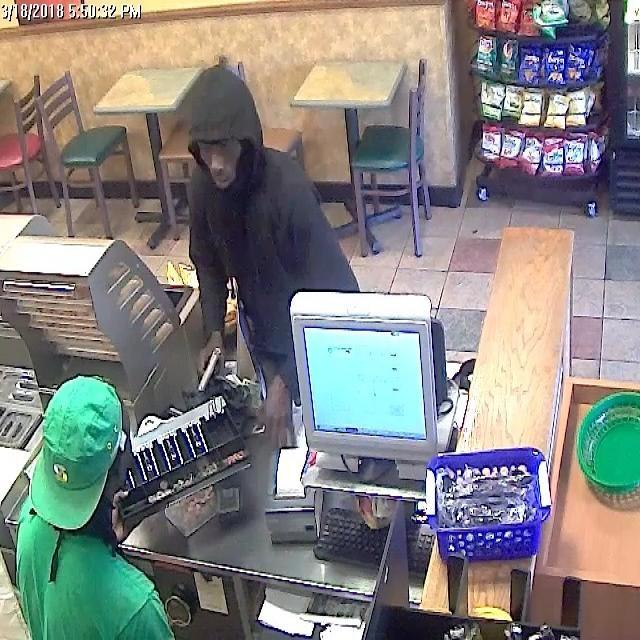Gun: (187, 343, 230, 392)
